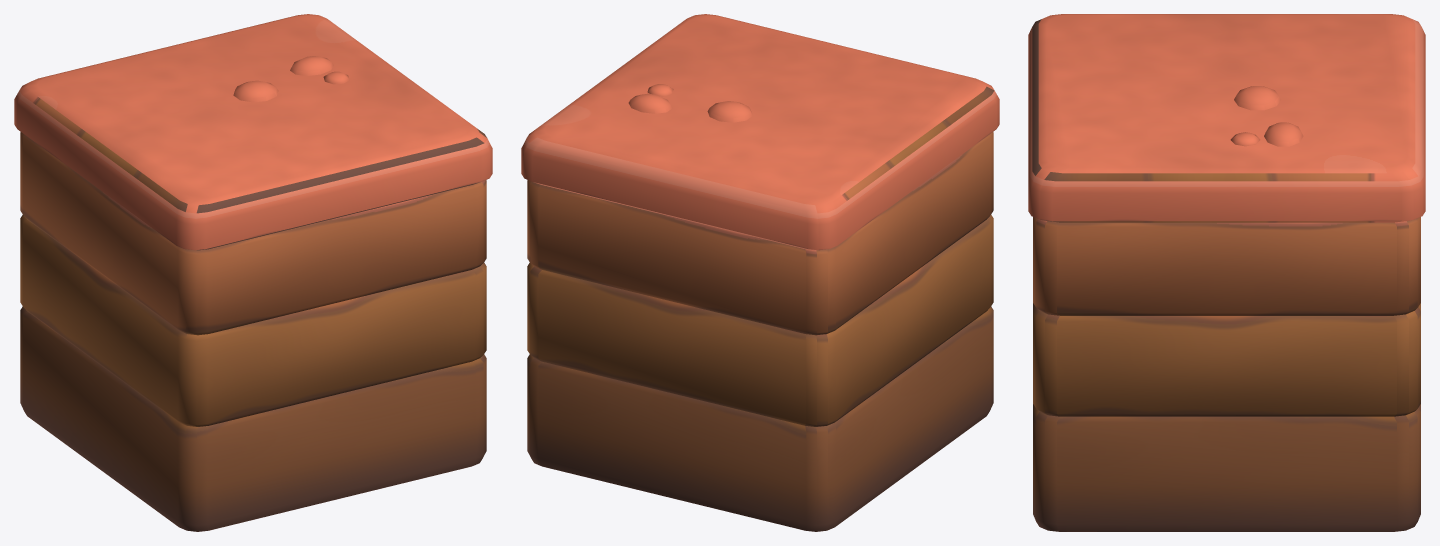
File: wall_pillar.glb
The picture shows the model from 3 angles, left to right: view 1: azimuth 30°, elevation 25°; view 2: azimuth 150°, elevation 25°; view 3: azimuth 270°, elevation 25°; orthographic projection. The views are drawn at different scales.
Parts seen in each view (by area): view 1: wall_pillar; view 2: wall_pillar; view 3: wall_pillar.
Part boxes in pixels (bbox=[...]): wall_pillar: bbox=[14, 14, 492, 531]; wall_pillar: bbox=[521, 14, 999, 531]; wall_pillar: bbox=[1028, 14, 1425, 531].
Size of the model in its own units: 1 by 1.03 by 1.
Materials: 2 (2 with a texture image).
